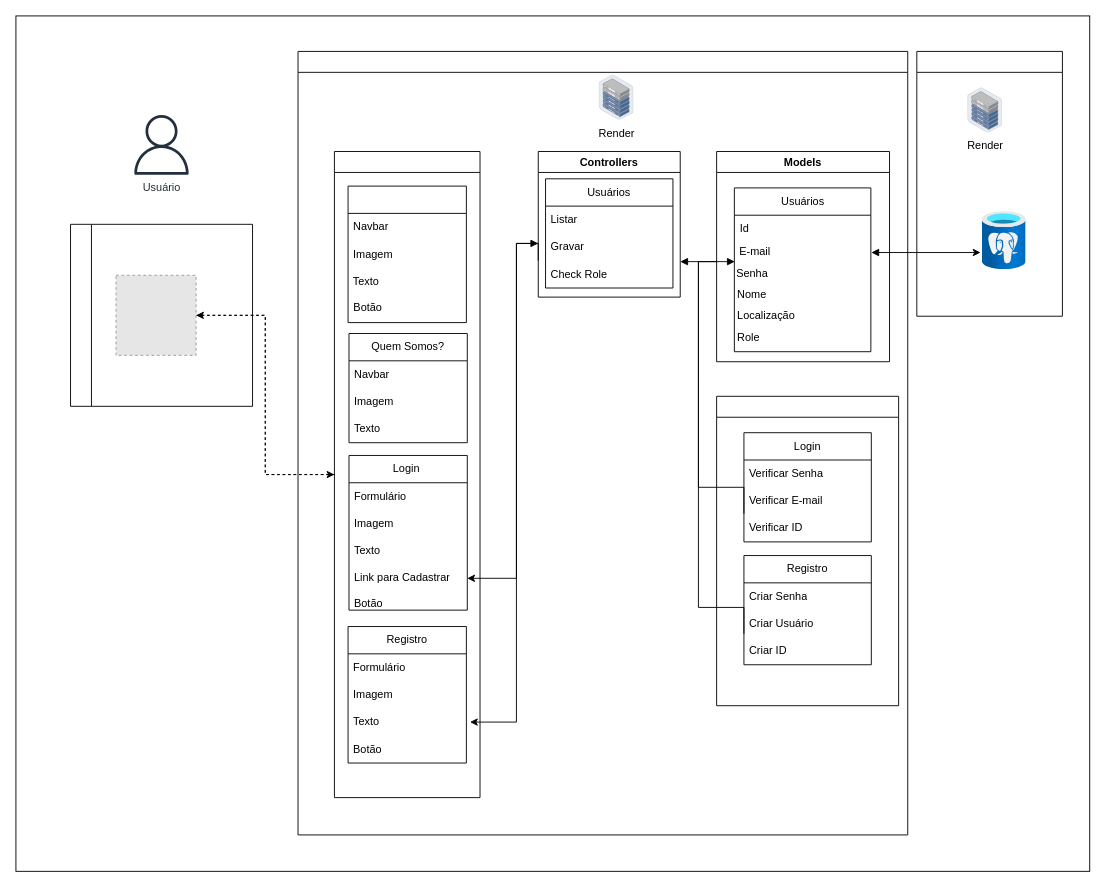
Image size: 1106x887. Some labels were removed from this diagram. Grey dashed boxes stand in for pictures. The box of each missing label's shape, as (x1, y1, x2, y2) in pixels:
Cliente: (70, 223, 253, 406)
Services: (716, 395, 899, 706)
Servidor: (297, 51, 908, 835)
Servidor Banco de Dados: (916, 51, 1062, 316)
Tela Inicial: (347, 185, 466, 323)
Views: (334, 151, 480, 798)
